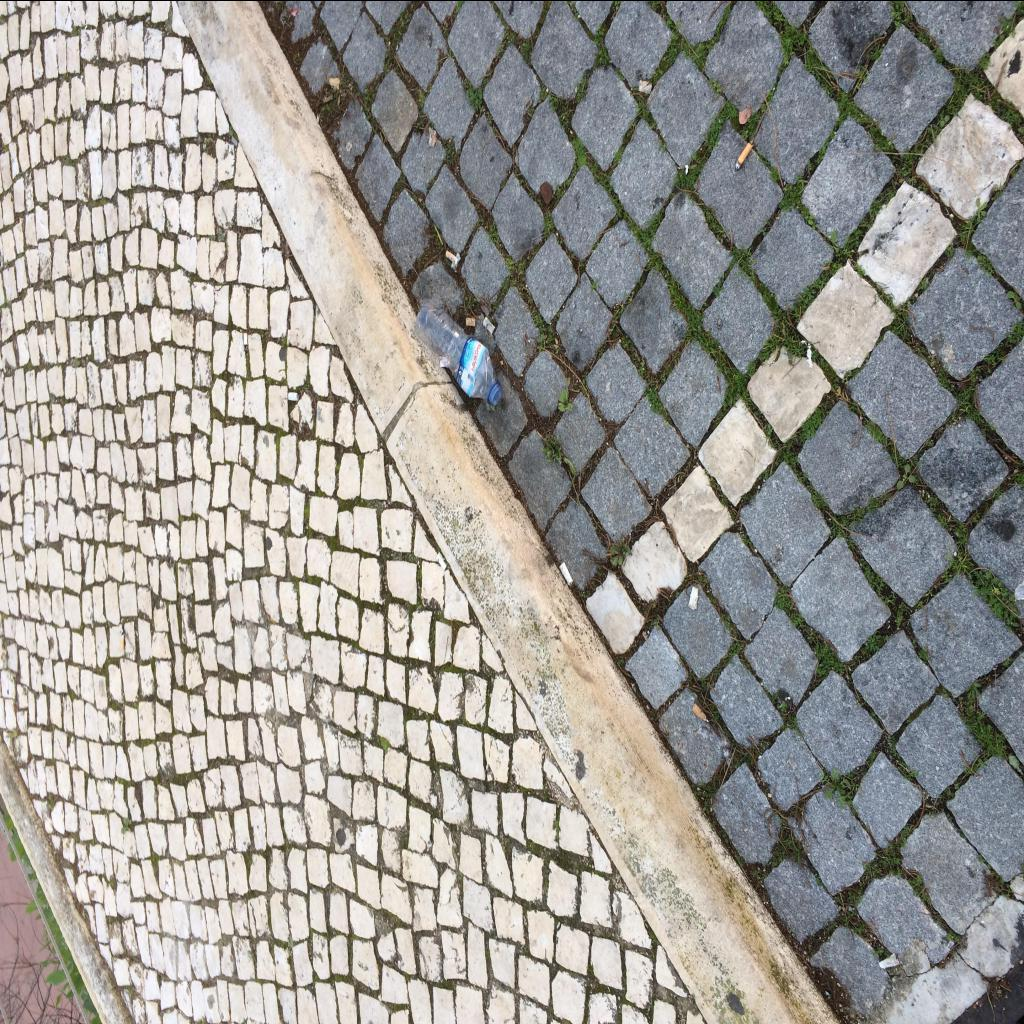Cigarette: (736, 140, 753, 168), (560, 560, 574, 586), (693, 702, 709, 720), (689, 586, 699, 608), (446, 249, 460, 263), (466, 316, 476, 324)
Clear plastic bottle: (414, 300, 502, 406)
